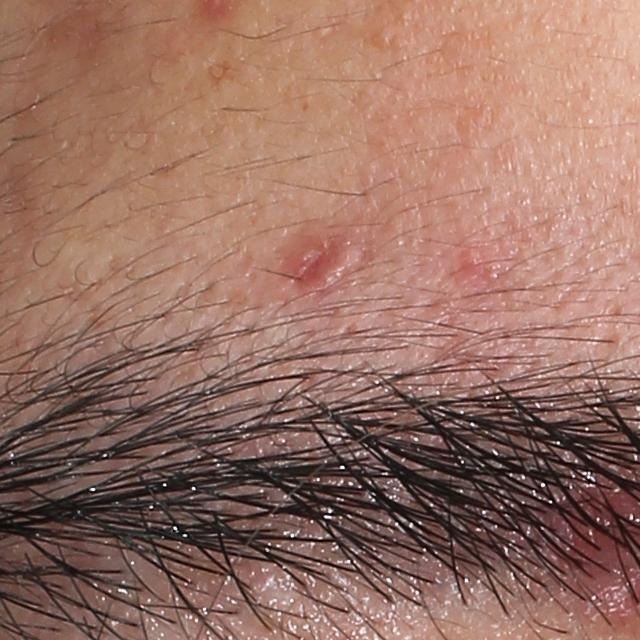comedo: (374, 29, 392, 47)
